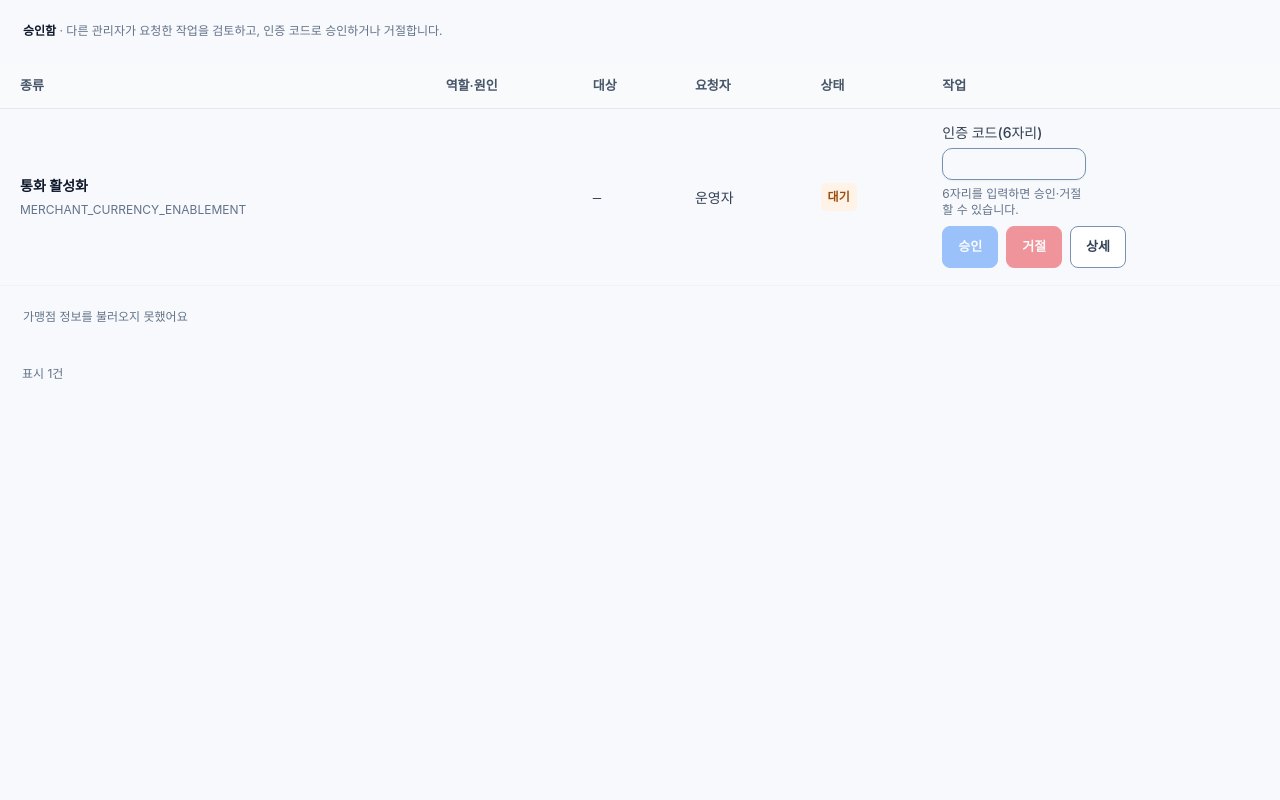
ApprovalsScreen — B3-2 currency enablement (MERCHANT-OPS-002 §8.4 B3-2-6) › "근거 보기" labels the reference as the institution reply; screen state only
Click the button "상세" at point(1098, 247), box [1070, 226, 1126, 268]
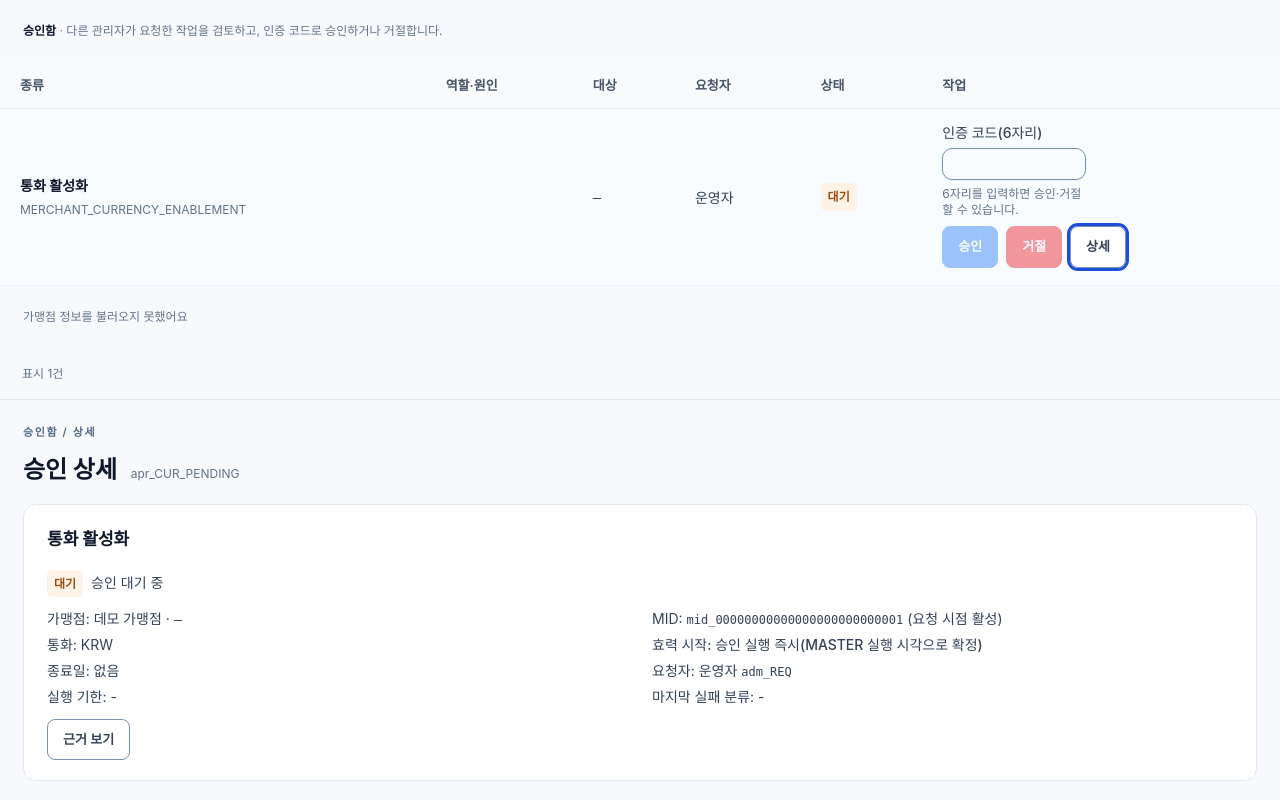
Click the button "근거 보기" at point(89, 739), box [47, 719, 130, 760]
(page scrolled)
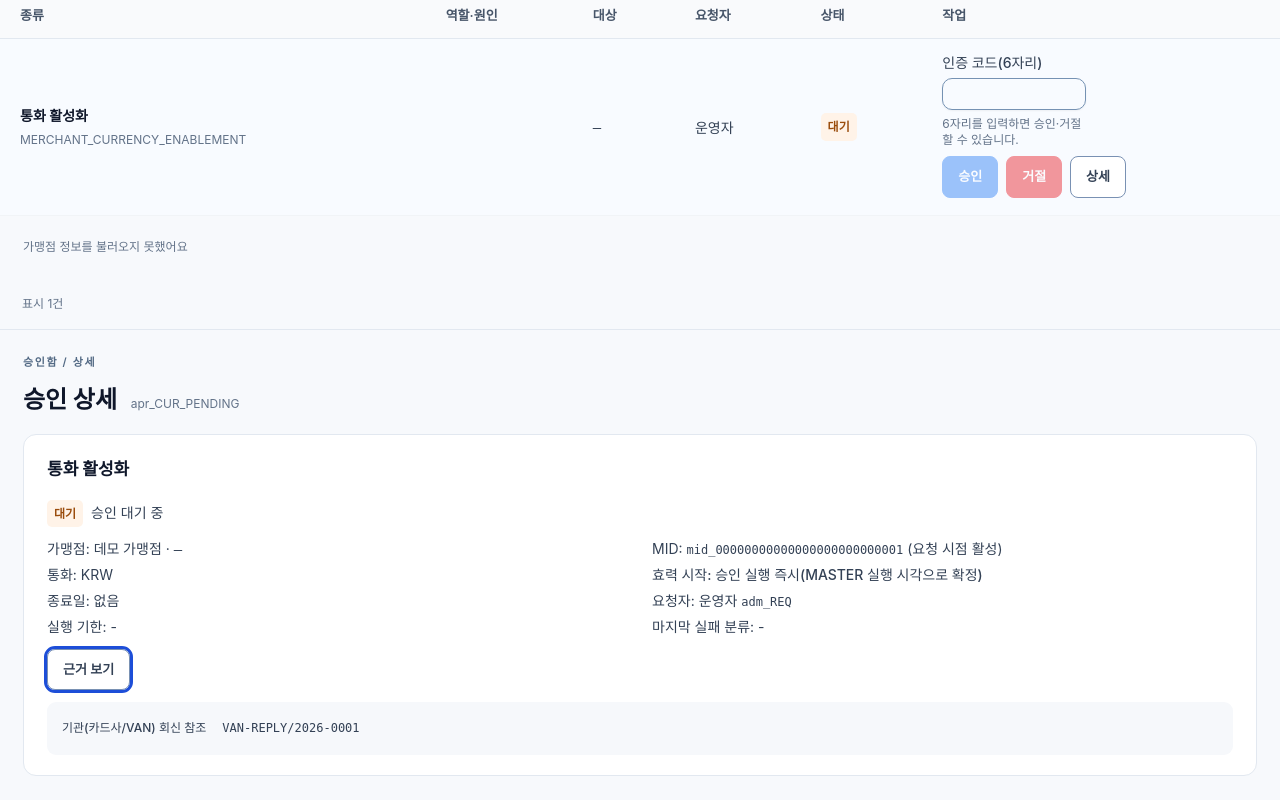
Expected: the text "VAN-REPLY/2026-0001" is shown, [222, 721, 360, 735]
Expected: the text "기관(카드사/VAN) 회신 참조" is shown, [62, 717, 206, 740]
